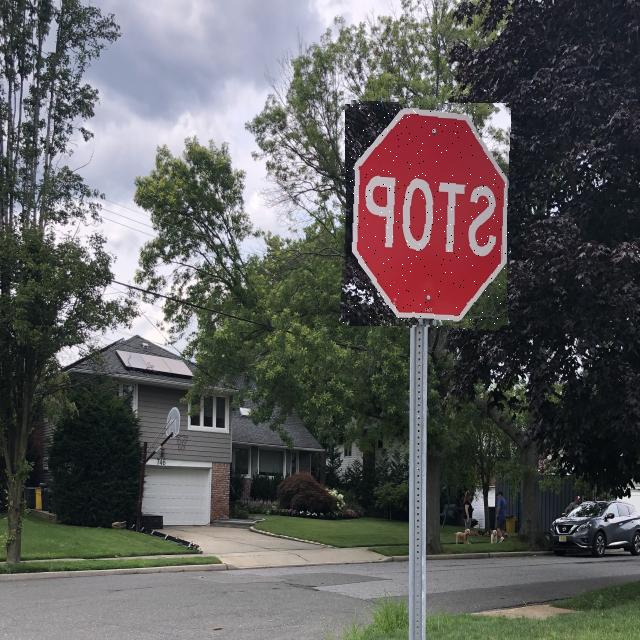stop: (342, 102, 509, 328)
